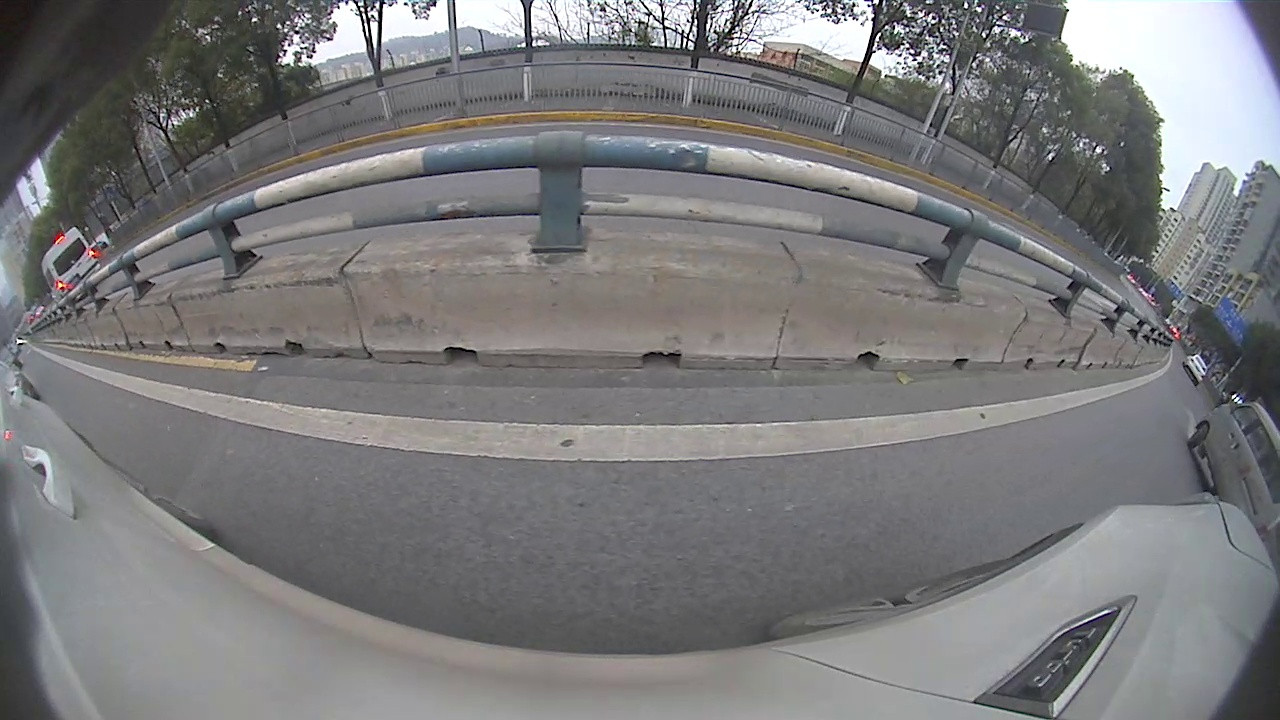car: (1186, 399, 1279, 541), (39, 224, 104, 309)
front: (1190, 422, 1209, 449)
